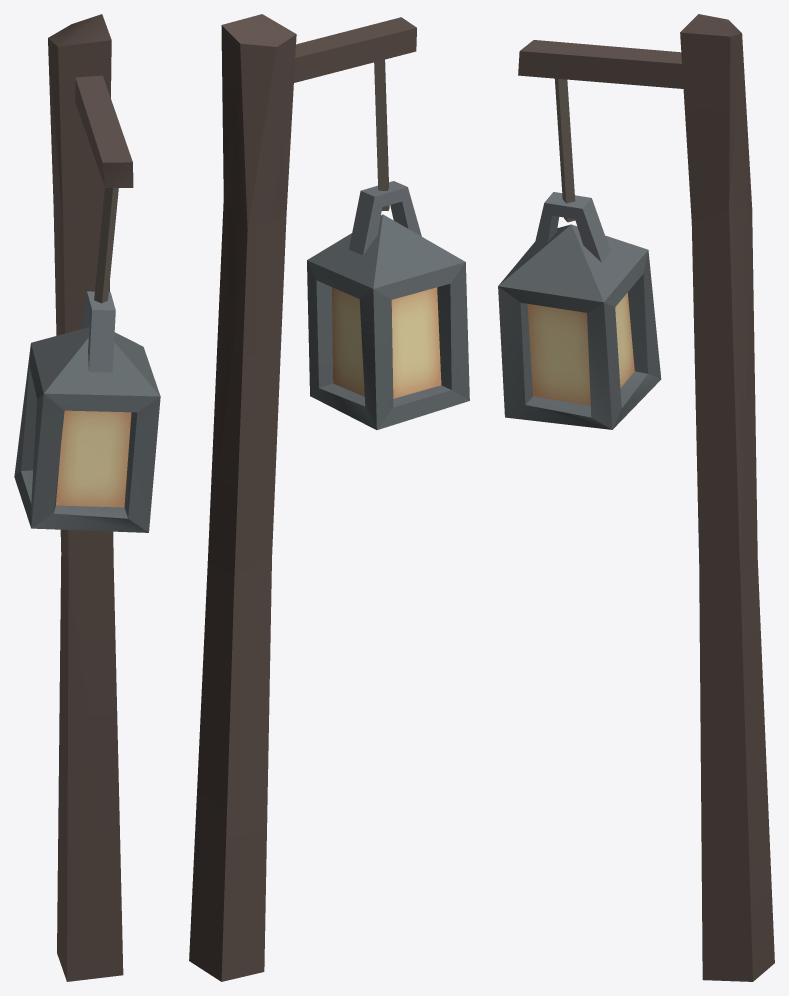
Rendered from midnightLanternProp02.fbx.
3 views of the same model, side by side, from view 1: azimuth 30°, elevation 25°; view 2: azimuth 150°, elevation 25°; view 3: azimuth 270°, elevation 25° (orthographic).
Visible parts, largest first — view 1: midnightLanternProp02, midnightLanternLamp; view 2: midnightLanternProp02, midnightLanternLamp; view 3: midnightLanternProp02, midnightLanternLamp.
Part boxes in pixels (x1,y1,x2,y2): midnightLanternProp02: (48, 14, 133, 981); midnightLanternLamp: (14, 188, 160, 532); midnightLanternProp02: (189, 14, 416, 981); midnightLanternLamp: (307, 59, 469, 429); midnightLanternProp02: (518, 14, 774, 981); midnightLanternLamp: (498, 78, 661, 429).
Size of the model in its own units: 0.7735 by 3.86 by 1.03.
Materials: 1 (1 with a texture image).
